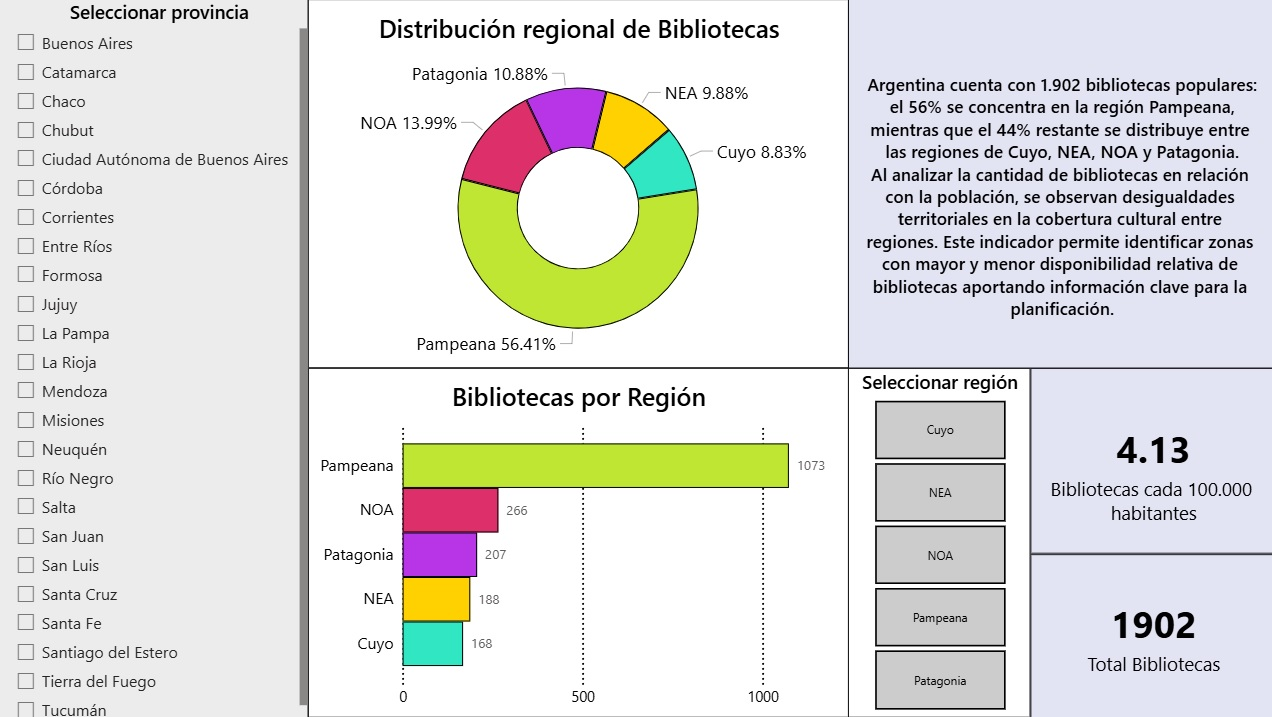

This screenshot's page, from the dashboard's own definition file:
{"tool":"powerbi","page":{"name":"Visión General","canvas":[1280,720],"ordinal":1},"visuals":[{"type":"clusteredBarChart","title":"Bibliotecas por Región","fields":{"Category":["Region.nombre_region"],"Y":["Medidas.Bibliotecas por Región"]},"box":[310.1,370.4,540.5,349.9],"z":0},{"type":"slicer","title":"Seleccionar provincia","fields":{"Values":["Provincia.nombre_provincia"]},"box":[0,0,310,720],"z":1000},{"type":"slicer","title":"Seleccionar región","fields":{"Values":["Region.nombre_region"]},"box":[850.6,370.6,182.4,349.4],"z":2000},{"type":"card","fields":{"Values":["Medidas.Total Bibliotecas"]},"box":[1032.7,556.2,247.3,164.1],"z":3000},{"type":"card","fields":{"Values":["Medidas.Bibliotecas cada 100.000 hab"]},"box":[1032.7,370.4,247.3,185.8],"z":4000},{"type":"donutChart","title":"Distribución regional de Bibliotecas","fields":{"Category":["Region.nombre_region"],"Y":["Medidas.Bibliotecas por Región"]},"box":[310.1,1.2,540.5,369.2],"z":5000},{"type":"card","fields":{"Values":["Medidas.Insight Brecha Territorial"]},"box":[850.5,0,429.5,370.4],"z":6000}]}

Visuals, with their boxes in screenshot pixels (x1, y1, x2, y2), scaled from the page's 1280x720 canvas onto the 1272x717 screenshot:
"Bibliotecas por Región" clusteredBarChart: [x1=308, y1=369, x2=845, y2=716]
"Seleccionar provincia" slicer: [x1=0, y1=0, x2=308, y2=716]
"Seleccionar región" slicer: [x1=845, y1=369, x2=1027, y2=716]
card - Medidas.Total Bibliotecas: [x1=1026, y1=554, x2=1271, y2=716]
card - Medidas.Bibliotecas cada 100.000 hab: [x1=1026, y1=369, x2=1271, y2=554]
"Distribución regional de Bibliotecas" donutChart: [x1=308, y1=1, x2=845, y2=369]
card - Medidas.Insight Brecha Territorial: [x1=845, y1=0, x2=1271, y2=369]
